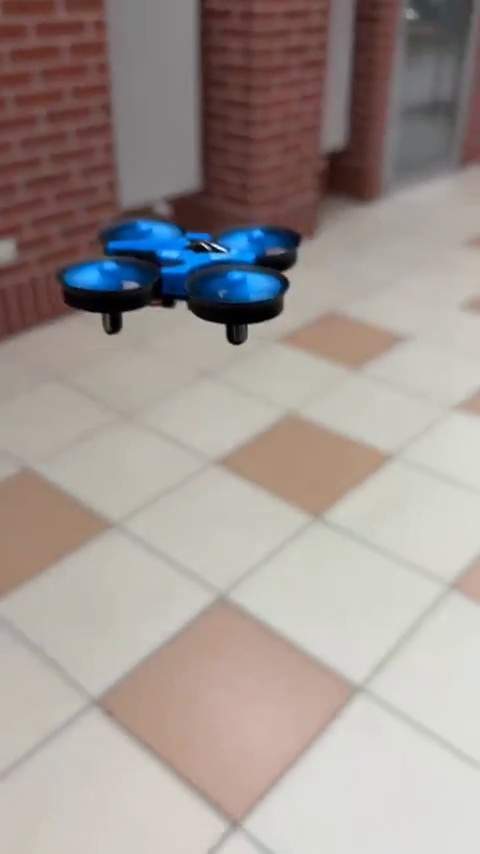drone: (59, 214, 307, 352)
